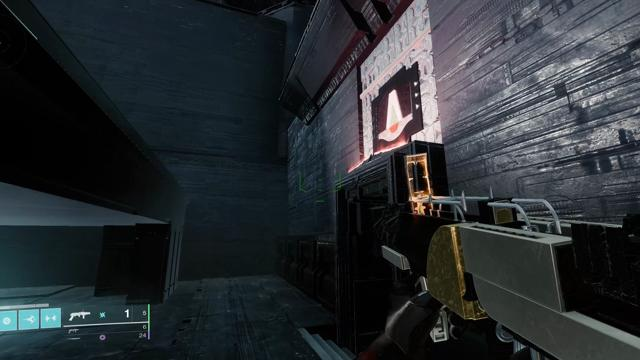enter: (378, 81, 413, 141)
